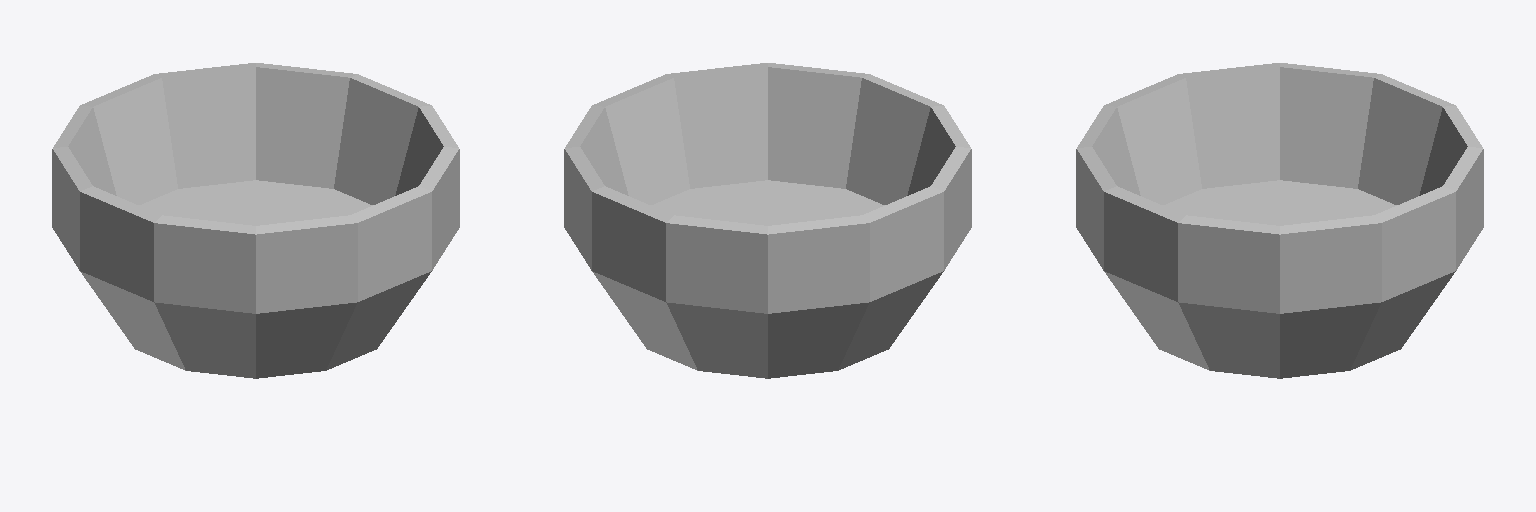
Rendered from lampara.obj.
3 renders of one model, left to right at view 1: azimuth 30°, elevation 25°; view 2: azimuth 150°, elevation 25°; view 3: azimuth 270°, elevation 25°, orthographic.
Bounding box in the file's own units: 1.99 × 1.18 × 1.99.